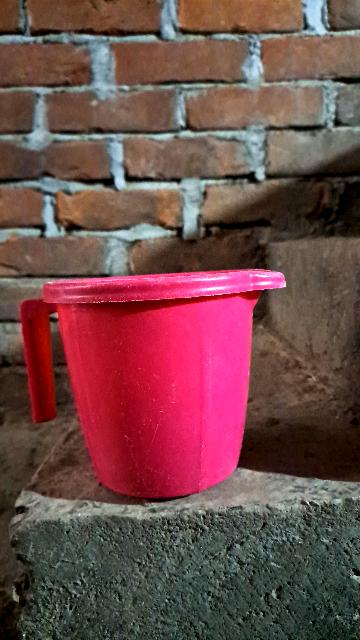hardplastic: (33, 267, 272, 501)
